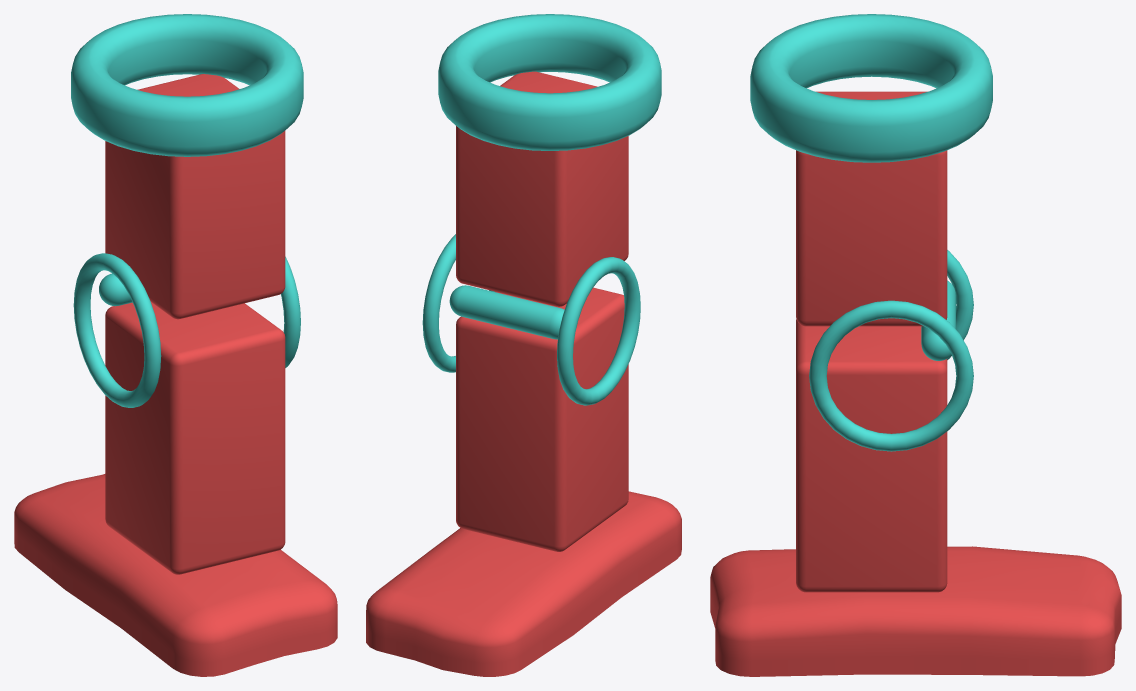
File: ToyRobotLeftLeg.fbx
3 renders of one model, left to right at view 1: azimuth 30°, elevation 25°; view 2: azimuth 150°, elevation 25°; view 3: azimuth 270°, elevation 25°, orthographic. The views are drawn at different scales.
Parts seen in each view (by area): view 1: Arm_base_2.004; view 2: Arm_base_2.004; view 3: Arm_base_2.004.
Boxes of the visible parts, bbox=[...] form: Arm_base_2.004: bbox=[14, 14, 337, 676]; Arm_base_2.004: bbox=[366, 14, 681, 676]; Arm_base_2.004: bbox=[710, 14, 1121, 676].
Size of the model in its own units: 469 by 1223 by 796.
